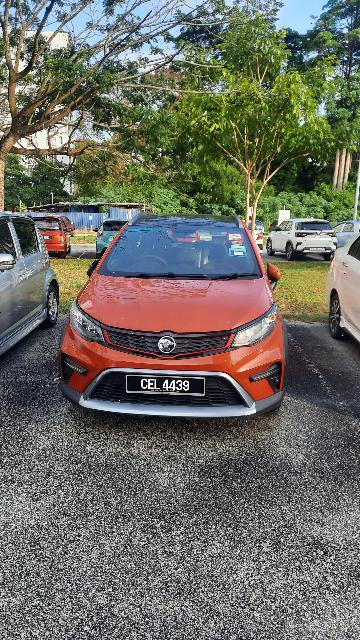License_Plate: (119, 371, 208, 400)
car: (51, 211, 300, 422)
